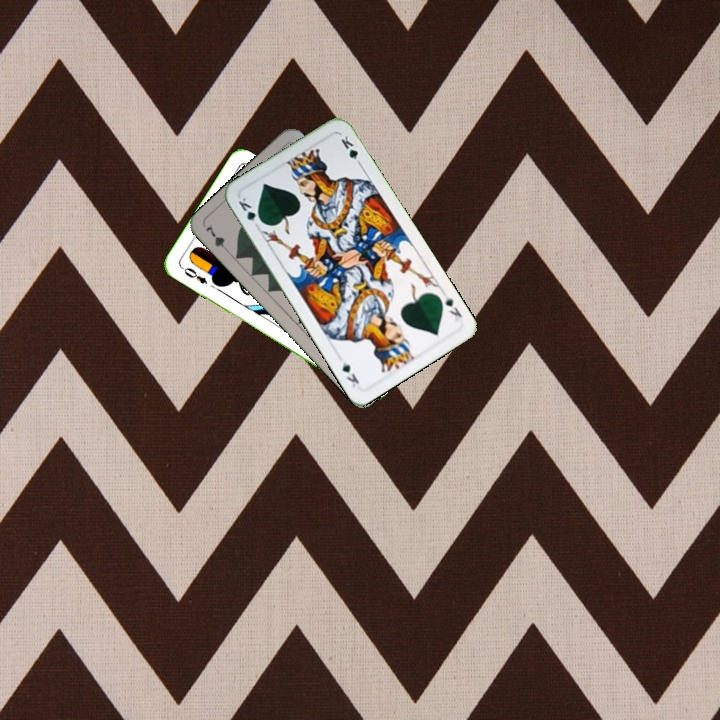EO: (177, 262, 210, 286)
G7: (201, 221, 233, 257)
GK: (234, 193, 266, 230), (441, 292, 465, 326)
